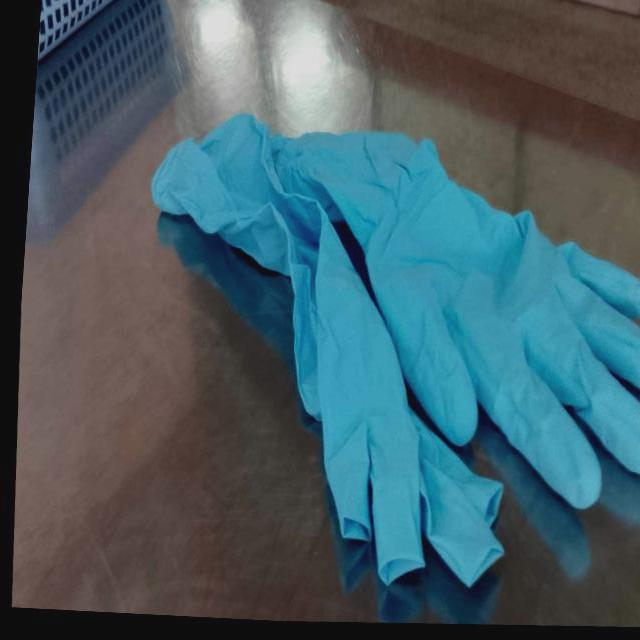General: (148, 111, 640, 608), (24, 2, 189, 247)
